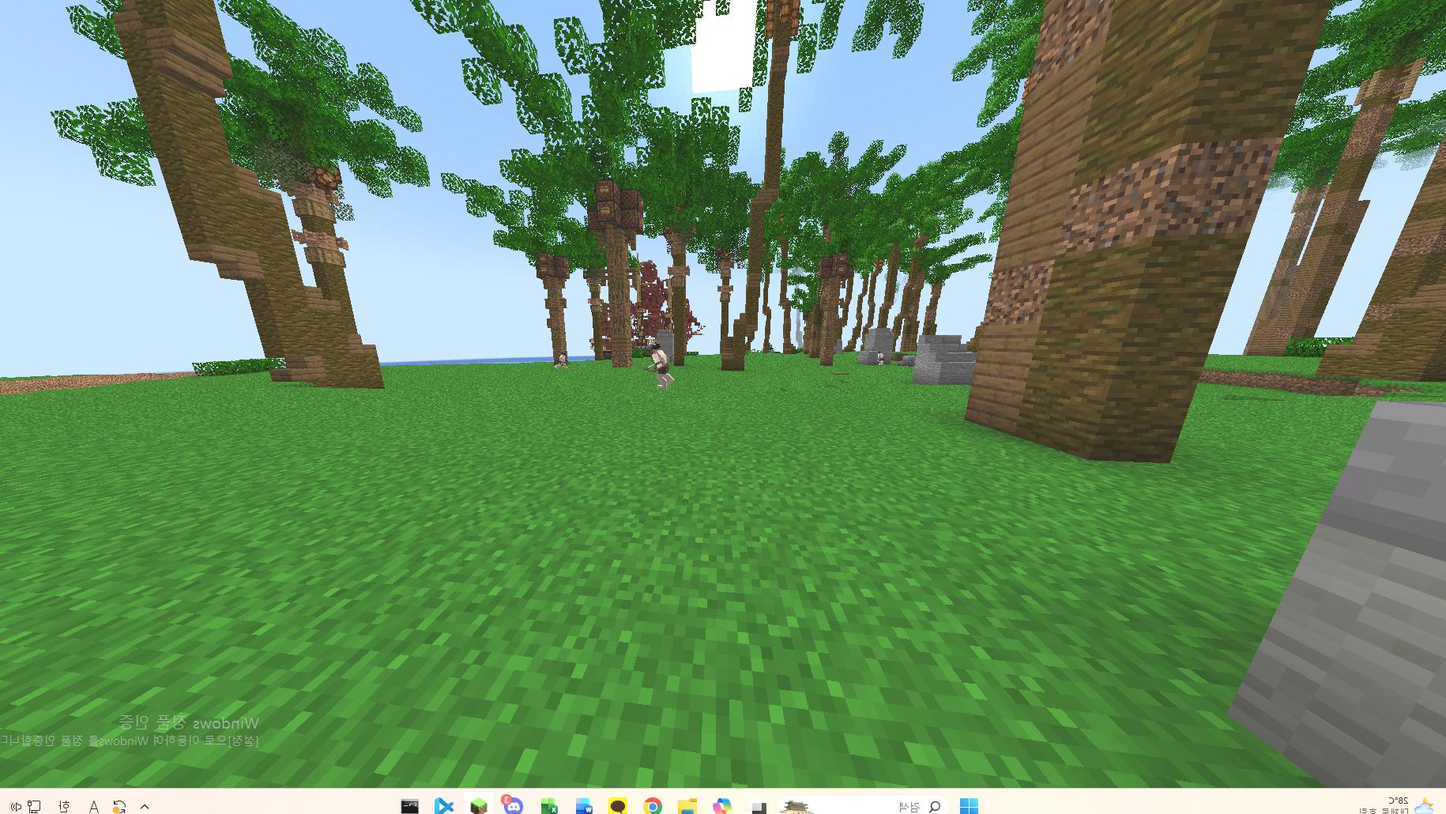bow_indian: (625, 339, 676, 410)
